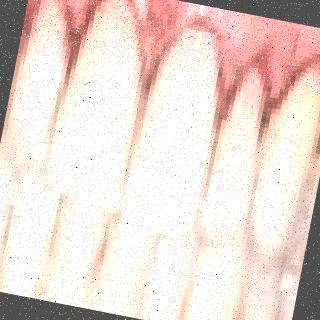Gum Swelling: (62, 3, 320, 85)
